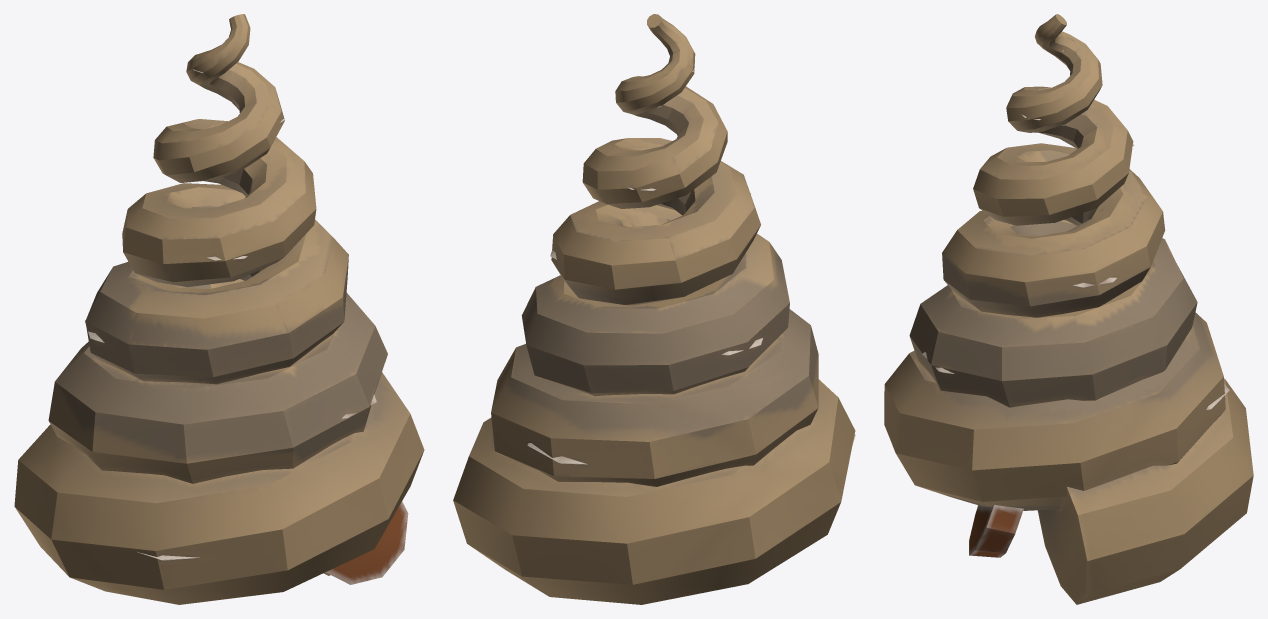
Rendered from snail_shell.glb.
3 views of the same model, side by side, from view 1: azimuth 30°, elevation 25°; view 2: azimuth 150°, elevation 25°; view 3: azimuth 270°, elevation 25° (orthographic). The views are drawn at different scales.
Visible parts, largest first — view 1: SM_SnailShell; view 2: SM_SnailShell; view 3: SM_SnailShell.
Part boxes in pixels (<box>): SM_SnailShell: <box>14,14,424,604</box>; SM_SnailShell: <box>453,14,855,604</box>; SM_SnailShell: <box>884,14,1253,604</box>.
Size of the model in its own units: 0.2562 by 0.3805 by 0.2401.
Materials: 2 (2 with a texture image).
